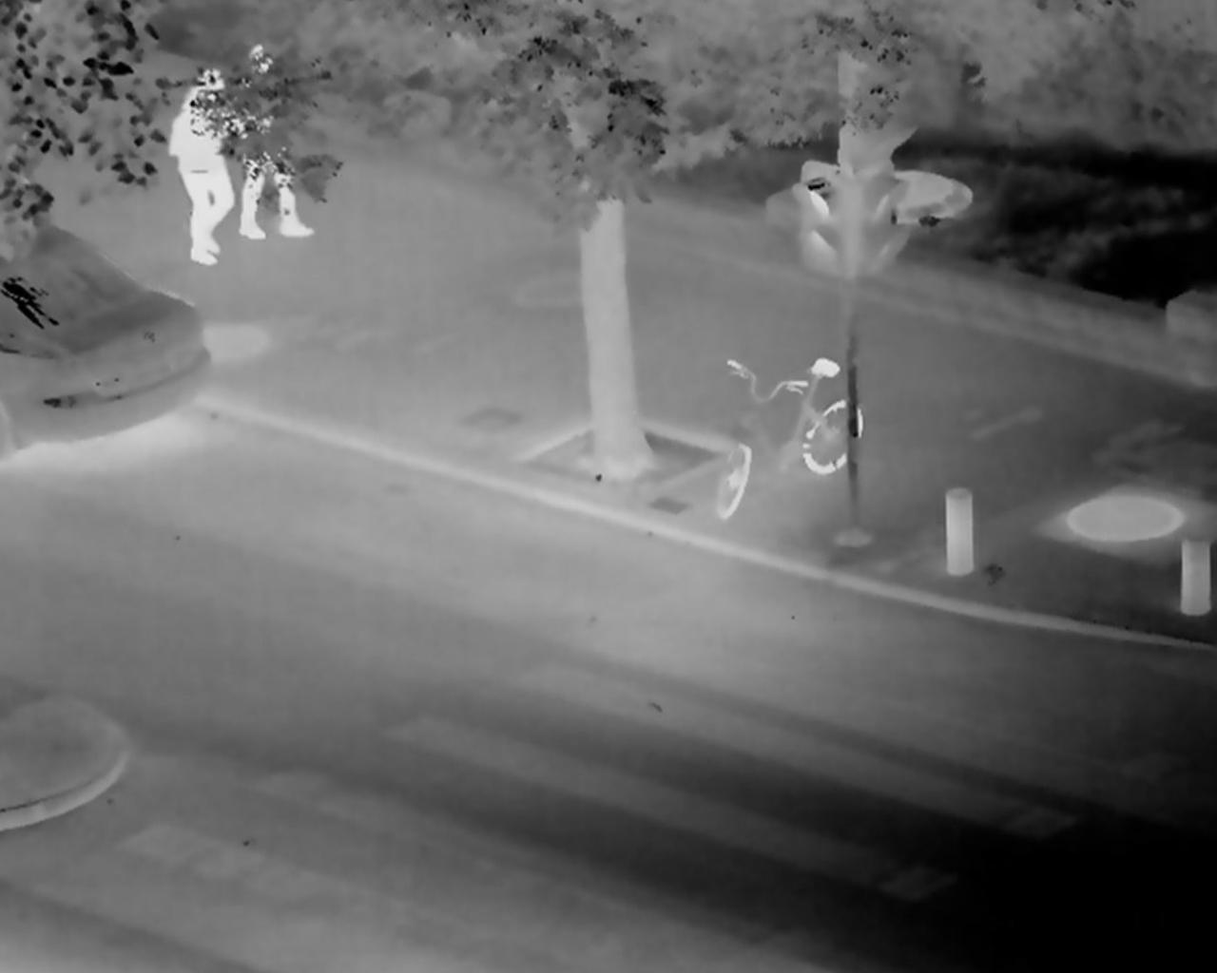person: (232, 45, 314, 244), (166, 70, 237, 267)
